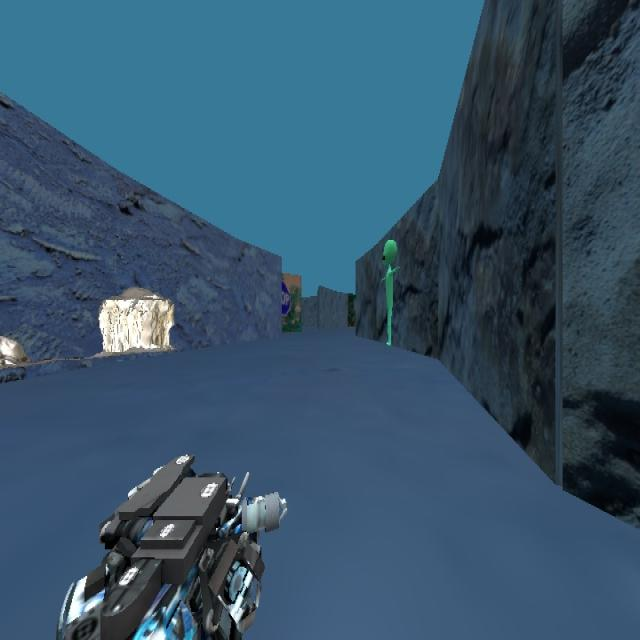Alien: (380, 238, 400, 346)
Ice: (76, 275, 196, 370), (0, 319, 32, 394)
Mushroom: (382, 238, 398, 266)
Stop_Sign: (280, 280, 291, 316)
